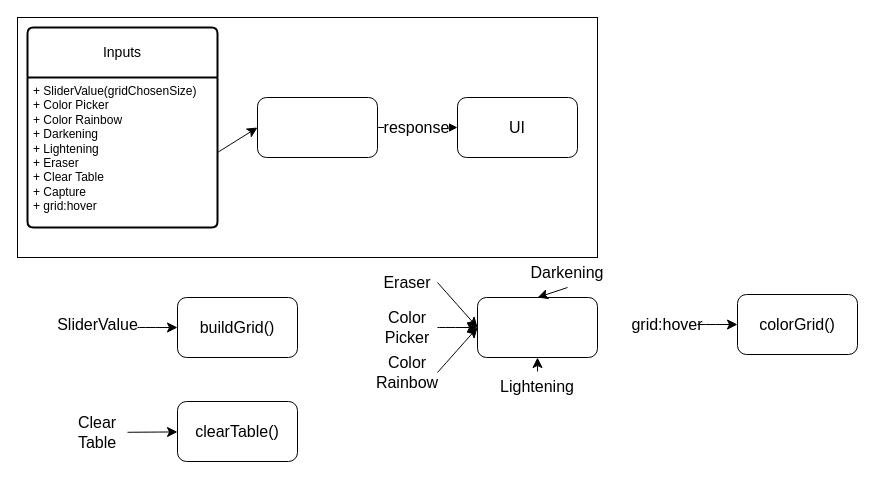
The diagram is 875 pixels wide and 479 high, and some of its shapes have lost their labels. The box of each missing label's shape, as (x1, y1, x2, y2) in pixels:
Js Script: (256, 96, 378, 158)
setColor(): (476, 296, 598, 358)
